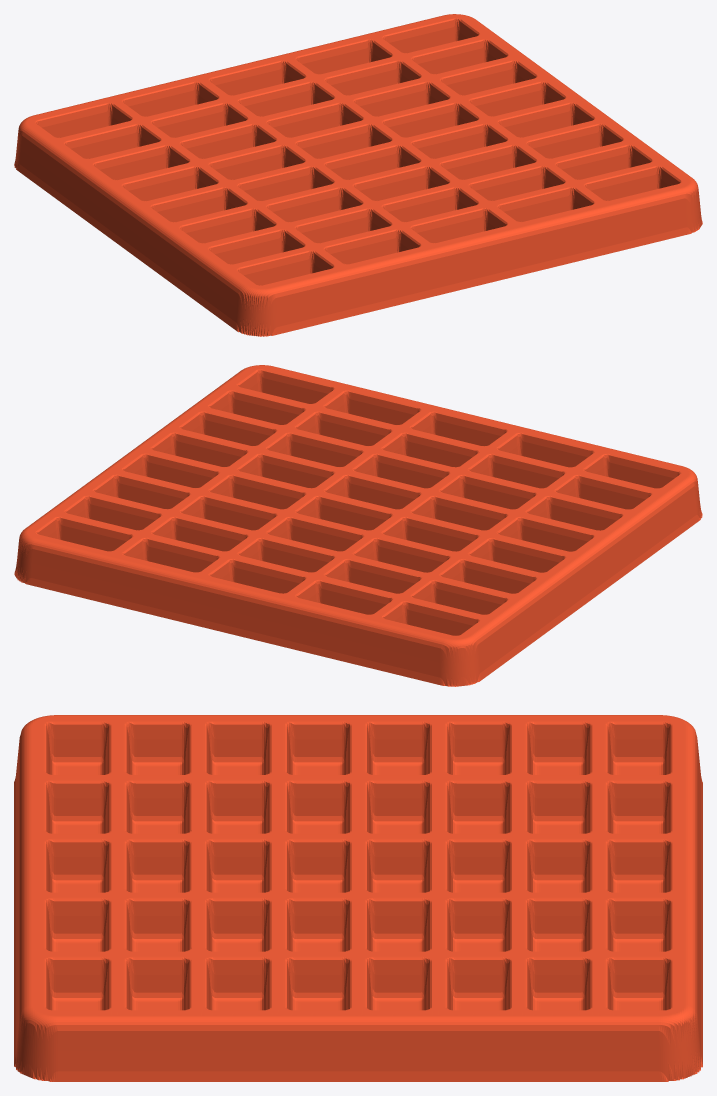
File: mold.glb
3 renders of one model, top to bottom at view 1: azimuth 30°, elevation 25°; view 2: azimuth 150°, elevation 25°; view 3: azimuth 270°, elevation 25°, orthographic. The views are drawn at different scales.
Visible parts, largest first — view 1: geometry_0; view 2: geometry_0; view 3: geometry_0.
Boxes of the visible parts, x1=… form: geometry_0: x1=14, y1=14, x2=702, y2=336; geometry_0: x1=14, y1=365, x2=702, y2=686; geometry_0: x1=14, y1=715, x2=702, y2=1081.
Size of the model in its own units: 0.1571 by 0.0136 by 0.1454.
